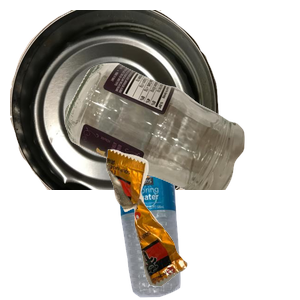glass: (62, 60, 300, 240)
metal: (10, 10, 221, 190)
plastic: (115, 176, 288, 300)
trash: (103, 147, 300, 300)
